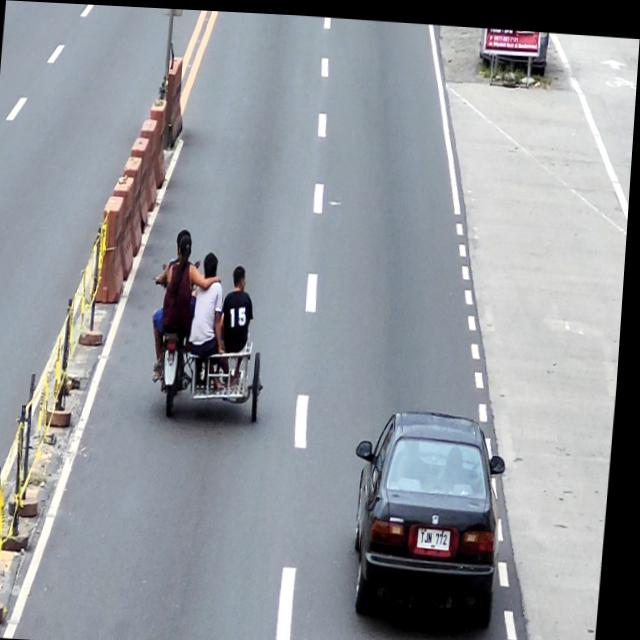Car: (349, 402, 515, 629)
License-Plate: (423, 523, 458, 546)
Tricycle: (149, 266, 275, 423)
